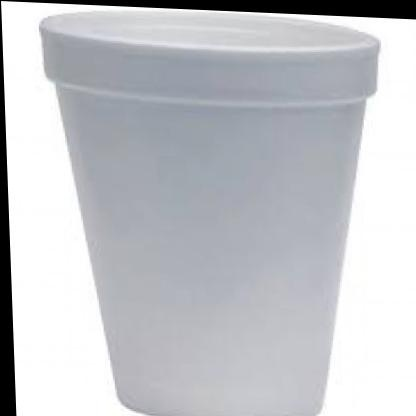trash: (40, 10, 378, 415)
